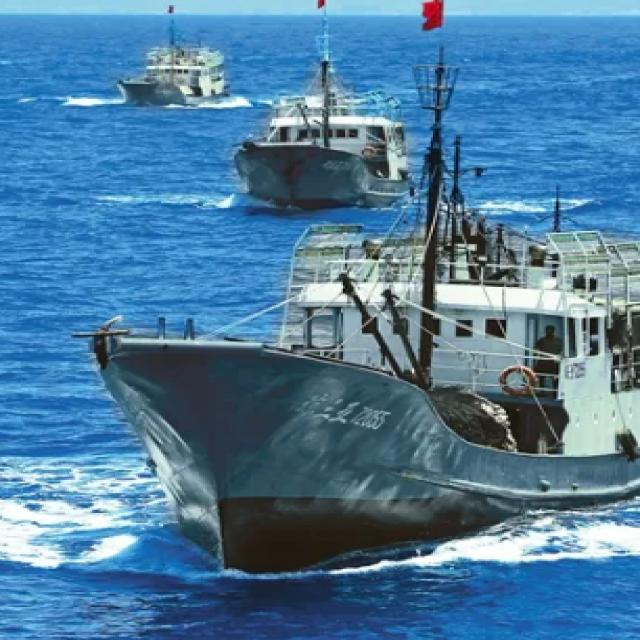fishing boat: (75, 185, 640, 577), (231, 40, 409, 204), (118, 2, 237, 107)
